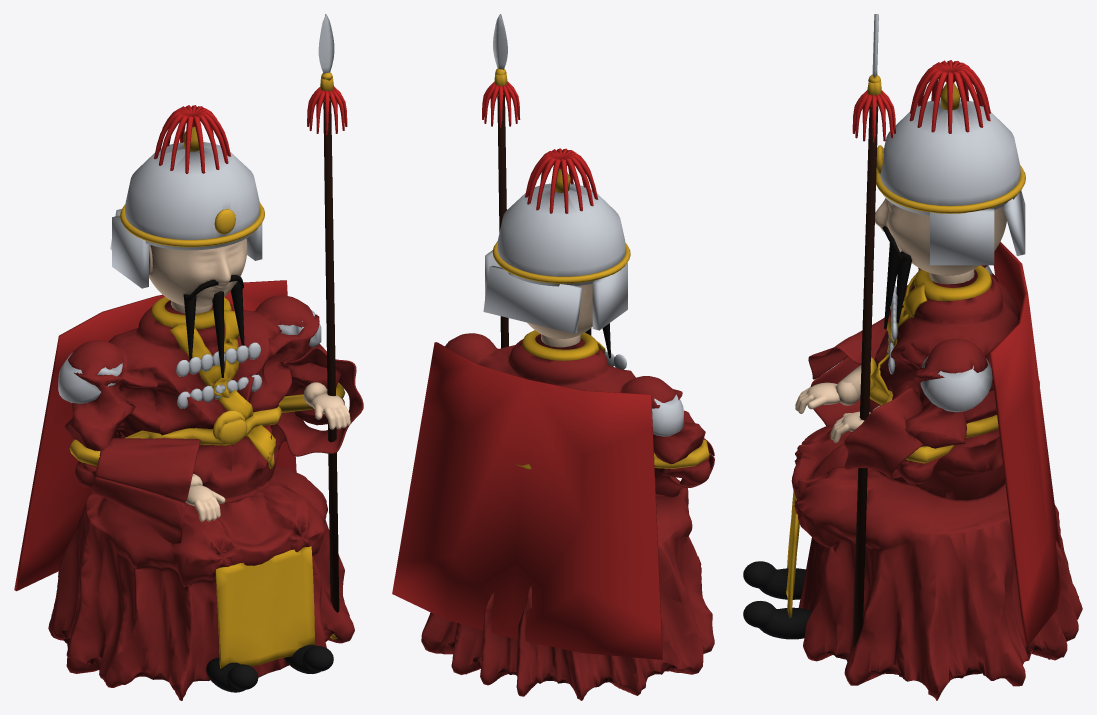
The model's file is yuefei.glb.
3 views of the same model, side by side, from view 1: azimuth 30°, elevation 25°; view 2: azimuth 150°, elevation 25°; view 3: azimuth 270°, elevation 25° (orthographic). The views are drawn at different scales.
Parts seen in each view (by area): view 1: YF_Robe, YF_Helmet, YF_Cape, YF_Apron, YF_SleeveL, YF_HeadMesh, YF_Shaft, YF_Armor, YF_SleeveR, YF_Lapel, YF_Belt, YF_Plume (+8 smaller); view 2: YF_Cape, YF_Robe, YF_Helmet, YF_Plume, YF_HelmetGold, YF_Armor, YF_Shaft, YF_Collar, YF_Tassel, YF_HeadMesh, YF_SleeveL, YF_Belt (+1 smaller); view 3: YF_Robe, YF_Helmet, YF_Cape, YF_Shaft, YF_SleeveR, YF_Boots, YF_Plume, YF_HeadMesh, YF_SleeveL, YF_Armor, YF_HelmetGold, YF_Beard (+8 smaller).
Part boxes in pixels (box(x1,y1,x2,y2)): YF_Robe: box(48, 295, 354, 700); YF_Helmet: box(110, 142, 262, 288); YF_Cape: box(14, 280, 296, 591); YF_Apron: box(215, 546, 314, 668); YF_SleeveL: box(91, 438, 200, 543); YF_HeadMesh: box(149, 238, 247, 307); YF_Shaft: box(323, 101, 339, 612); YF_Armor: box(58, 310, 321, 408); YF_SleeveR: box(276, 347, 363, 456); YF_Lapel: box(170, 309, 275, 468); YF_Belt: box(69, 382, 345, 466); YF_Plume: box(154, 105, 230, 173); YF_Cape: box(392, 342, 662, 659); YF_Robe: box(421, 333, 714, 700); YF_Helmet: box(483, 183, 627, 333); YF_Plume: box(525, 148, 598, 213); YF_HelmetGold: box(492, 169, 630, 283); YF_Armor: box(605, 351, 684, 436); YF_Shaft: box(497, 95, 508, 348); YF_Collar: box(522, 330, 598, 360); YF_Tassel: box(482, 81, 520, 127); YF_HeadMesh: box(527, 283, 592, 338); YF_SleeveL: box(654, 410, 714, 497); YF_Belt: box(515, 439, 709, 469); YF_Robe: box(791, 265, 1082, 700); YF_Helmet: box(880, 99, 1025, 265); YF_Cape: box(989, 242, 1060, 645); YF_Shaft: box(852, 106, 878, 647); YF_SleeveR: box(844, 387, 923, 478); YF_Boots: box(743, 561, 811, 639); YF_Plume: box(909, 60, 990, 133); YF_HeadMesh: box(875, 198, 1006, 275); YF_SleeveL: box(808, 315, 890, 426); YF_Armor: box(888, 265, 992, 412); YF_HelmetGold: box(876, 83, 1025, 213); YF_Beard: box(882, 226, 911, 329).
Size of the model in its own units: 1.2 by 2.54 by 1.16.
